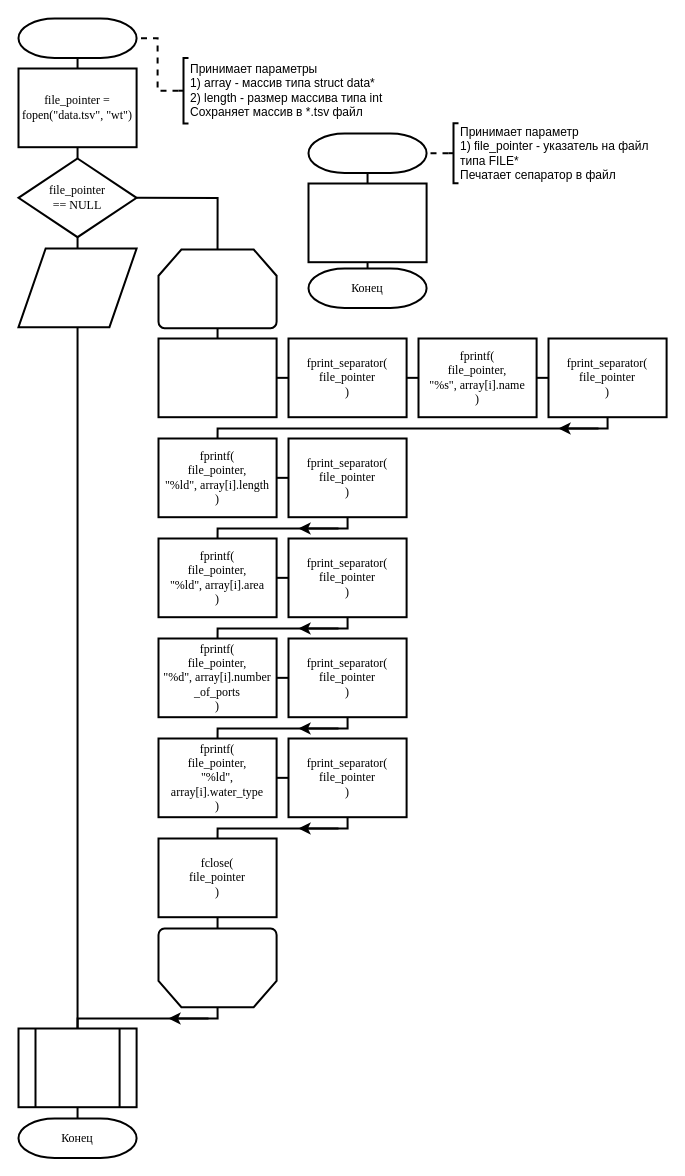
This 685x1176 diagram has some shape labels left out. Each missing label, with the centre of its shape:
(Сообщение, что файл не открылся): point (77, 287)
fprintf( file_pointer, "%d", array[i].name_size ): point (217, 377)
fprintf( file_pointer, "\t" ): point (367, 222)
i = 0 i < length: point (217, 288)
i++: point (217, 967)
menu( array, length ): point (77, 1067)
void fprint_separator(): point (367, 152)
void save_to_tsv_file(): point (77, 37)
